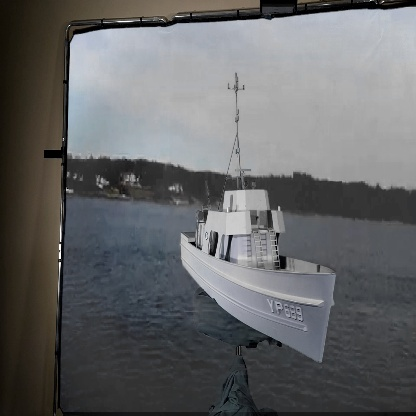YP689: (179, 70, 337, 365)
